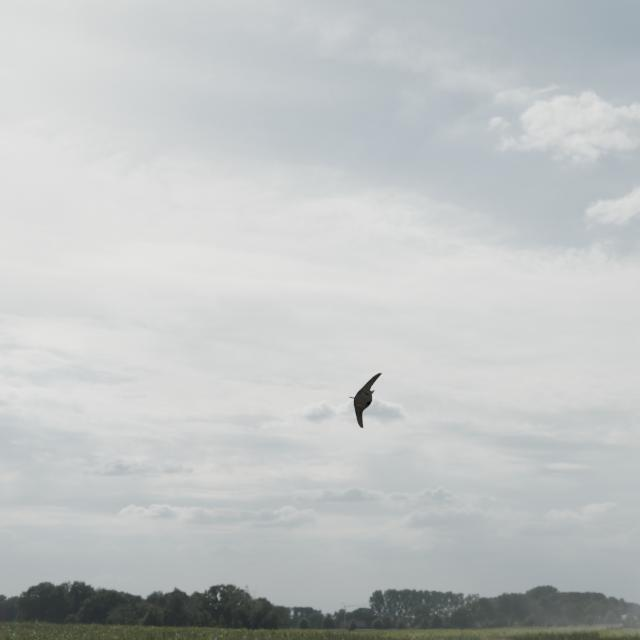Airaplan: (347, 373, 382, 429)
